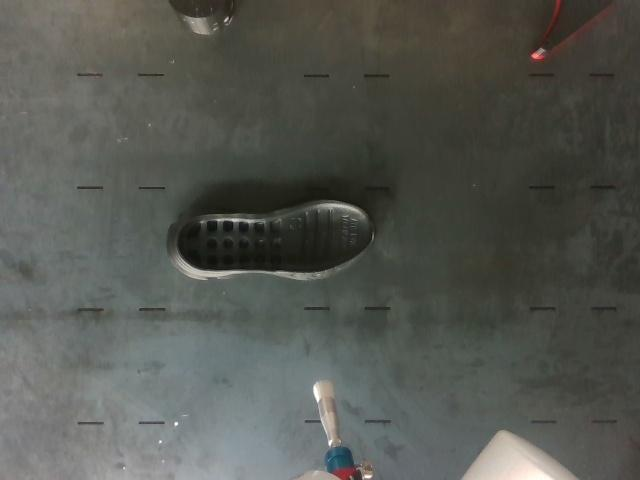shoes: (176, 203, 373, 273)
